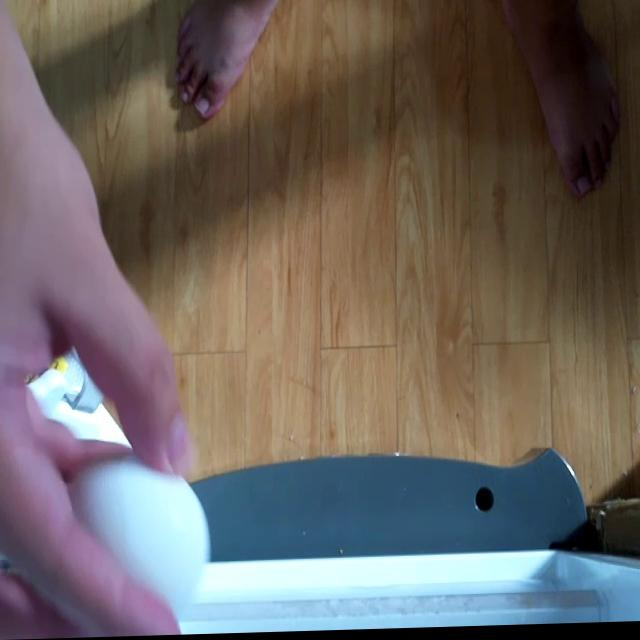egg: (70, 454, 210, 610)
